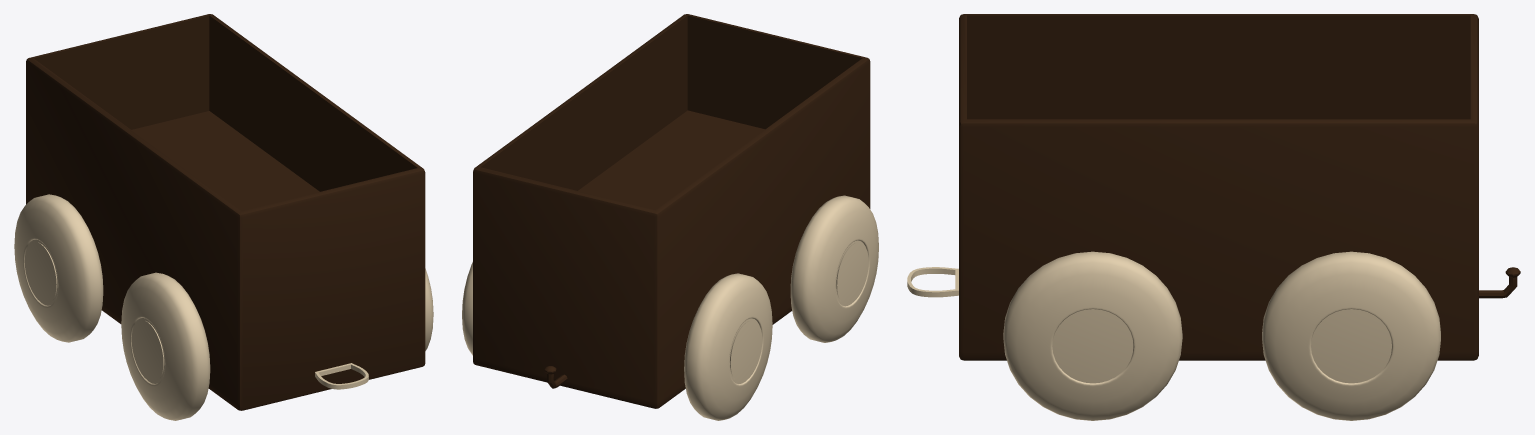
The model's file is 1tren-vag.glb.
The picture shows the model from 3 angles, left to right: view 1: azimuth 30°, elevation 25°; view 2: azimuth 150°, elevation 25°; view 3: azimuth 270°, elevation 25°; orthographic projection. The views are drawn at different scales.
Parts seen in each view (by area): view 1: carriage.001, tire-1.002, tire-1.003, hook.001, tire-1.001; view 2: carriage.001, tire-1.002, tire-1.003, tire-1; view 3: carriage.001, tire-1, tire-1.001, hook.001.
Boxes of the visible parts, box(x1,y1,x2,y2) form: carriage.001: box(26, 14, 425, 410); tire-1.002: box(14, 194, 103, 342); tire-1.003: box(121, 272, 210, 420); hook.001: box(315, 363, 368, 389); tire-1.001: box(425, 268, 433, 350); carriage.001: box(473, 14, 870, 408); tire-1.002: box(684, 273, 772, 420); tire-1.003: box(790, 195, 878, 342); tire-1: box(462, 262, 472, 355); carriage.001: box(959, 14, 1520, 360); tire-1: box(1262, 251, 1440, 420); tire-1.001: box(1003, 251, 1182, 420); hook.001: box(907, 267, 958, 297).
Bounding box in the file's own units: 1.99 × 1.72 × 3.35.
Materials: 2 (1 with a texture image).
